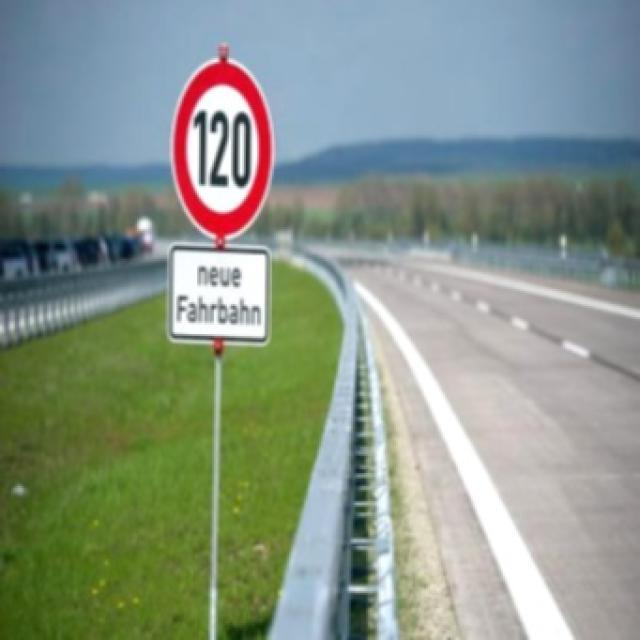forb_speed_over_120: (172, 60, 271, 238)
